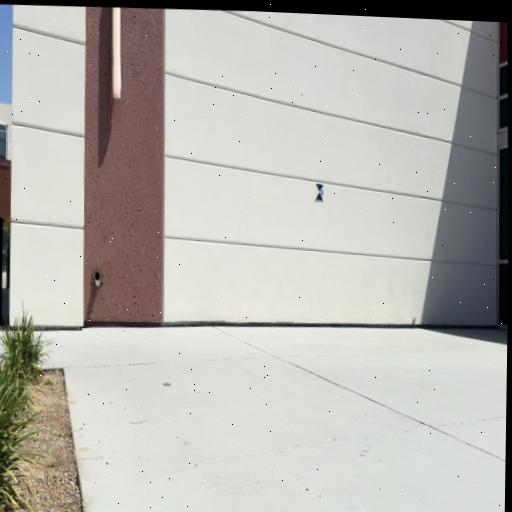target0: (315, 183, 324, 203)
